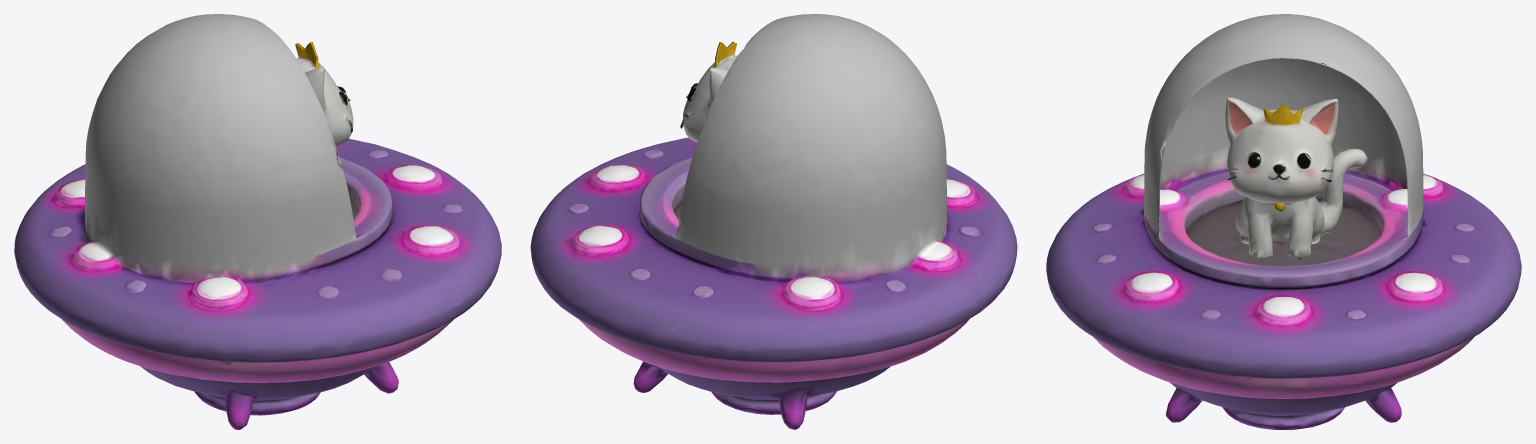
File: saucer.glb
3 renders of one model, left to right at view 1: azimuth 30°, elevation 25°; view 2: azimuth 150°, elevation 25°; view 3: azimuth 270°, elevation 25°, orthographic. The views are drawn at different scales.
Parts seen in each view (by area): view 1: tripo_node_cd9da198-1312-4b72-ba4a-6bdf98a85781; view 2: tripo_node_cd9da198-1312-4b72-ba4a-6bdf98a85781; view 3: tripo_node_cd9da198-1312-4b72-ba4a-6bdf98a85781.
Part boxes in pixels (x1,y1,x2,y2): tripo_node_cd9da198-1312-4b72-ba4a-6bdf98a85781: [14, 14, 501, 429]; tripo_node_cd9da198-1312-4b72-ba4a-6bdf98a85781: [530, 14, 1017, 429]; tripo_node_cd9da198-1312-4b72-ba4a-6bdf98a85781: [1046, 14, 1521, 429].
Size of the model in its own units: 0.2966 by 0.25 by 0.2965.
1 material, 1 textured.
